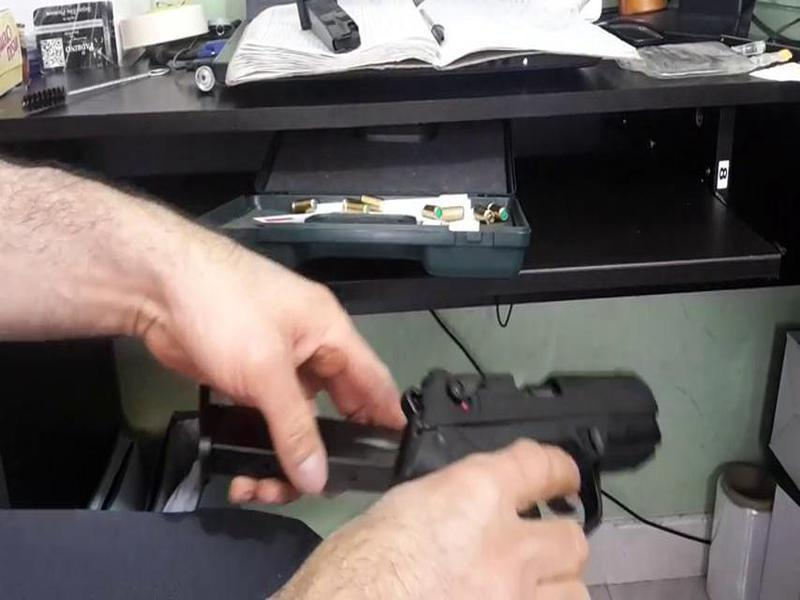Pistola: (348, 348, 693, 546)
